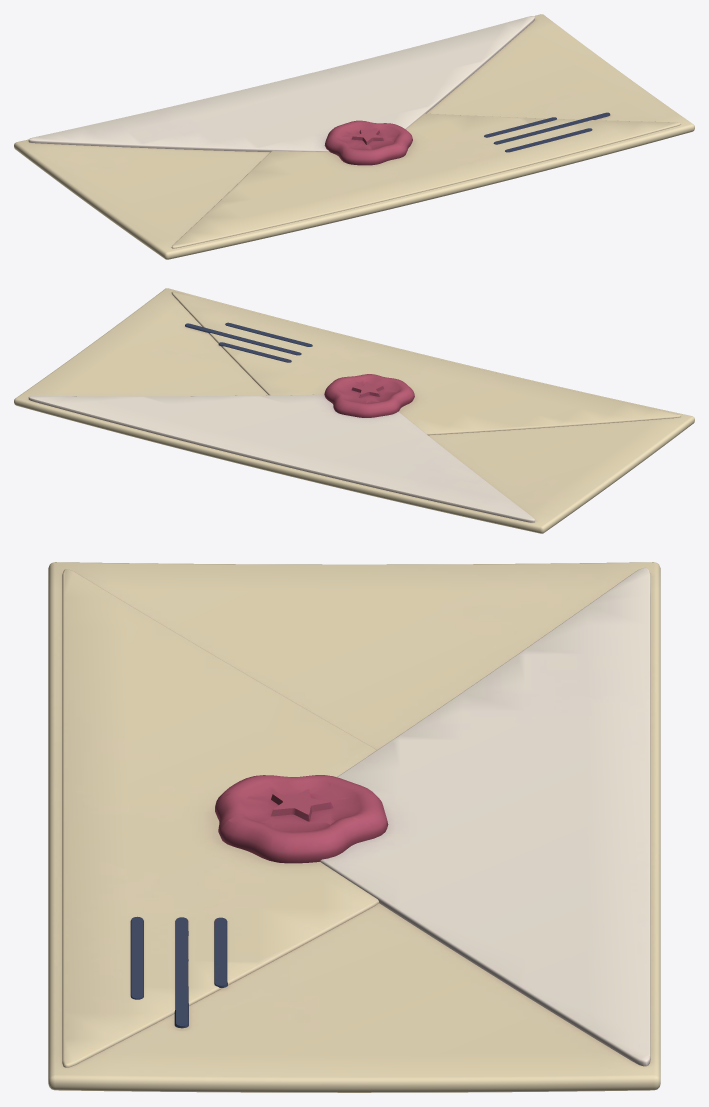
3 views of the same model, one above another, from view 1: azimuth 30°, elevation 25°; view 2: azimuth 150°, elevation 25°; view 3: azimuth 270°, elevation 25° (orthographic). The views are drawn at different scales.
Parts seen in each view (by area): view 1: letter_body; view 2: letter_body; view 3: letter_body.
Part boxes in pixels (x1,y1,x2,y2): letter_body: (14, 14, 694, 259); letter_body: (14, 288, 694, 533); letter_body: (48, 562, 660, 1092).
Bounding box in the file's own units: 0.22 × 0.00841 × 0.11.
Materials: 1 (1 with a texture image).
